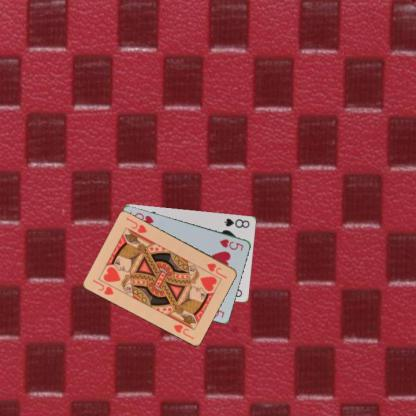5h: (217, 236, 245, 252)
8s: (222, 215, 251, 229)
Jh: (90, 277, 115, 296), (205, 260, 228, 280)
